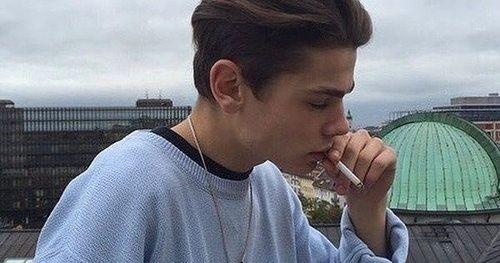cigarette: (324, 149, 364, 191)
